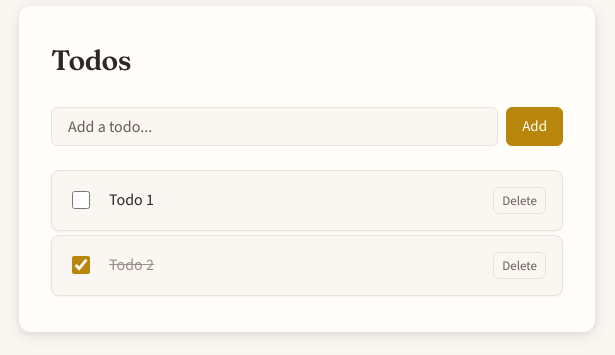
Test: App › deletes todo when delete button is clicked
Click the button with aria-label "Delete".
click(520, 200)  # box [493, 187, 546, 214]
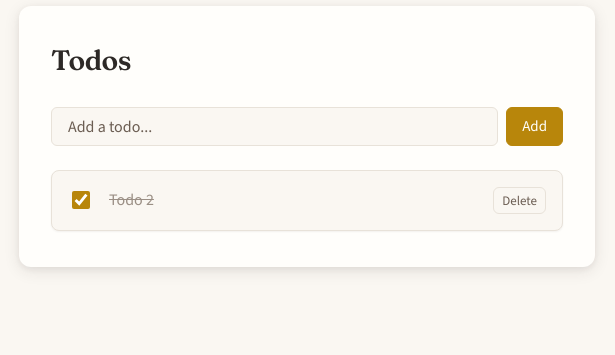
Result: the text "Todo 1" is gone
Result: the number of list items with class "todo-item" is 1 at [51, 170, 563, 231]
